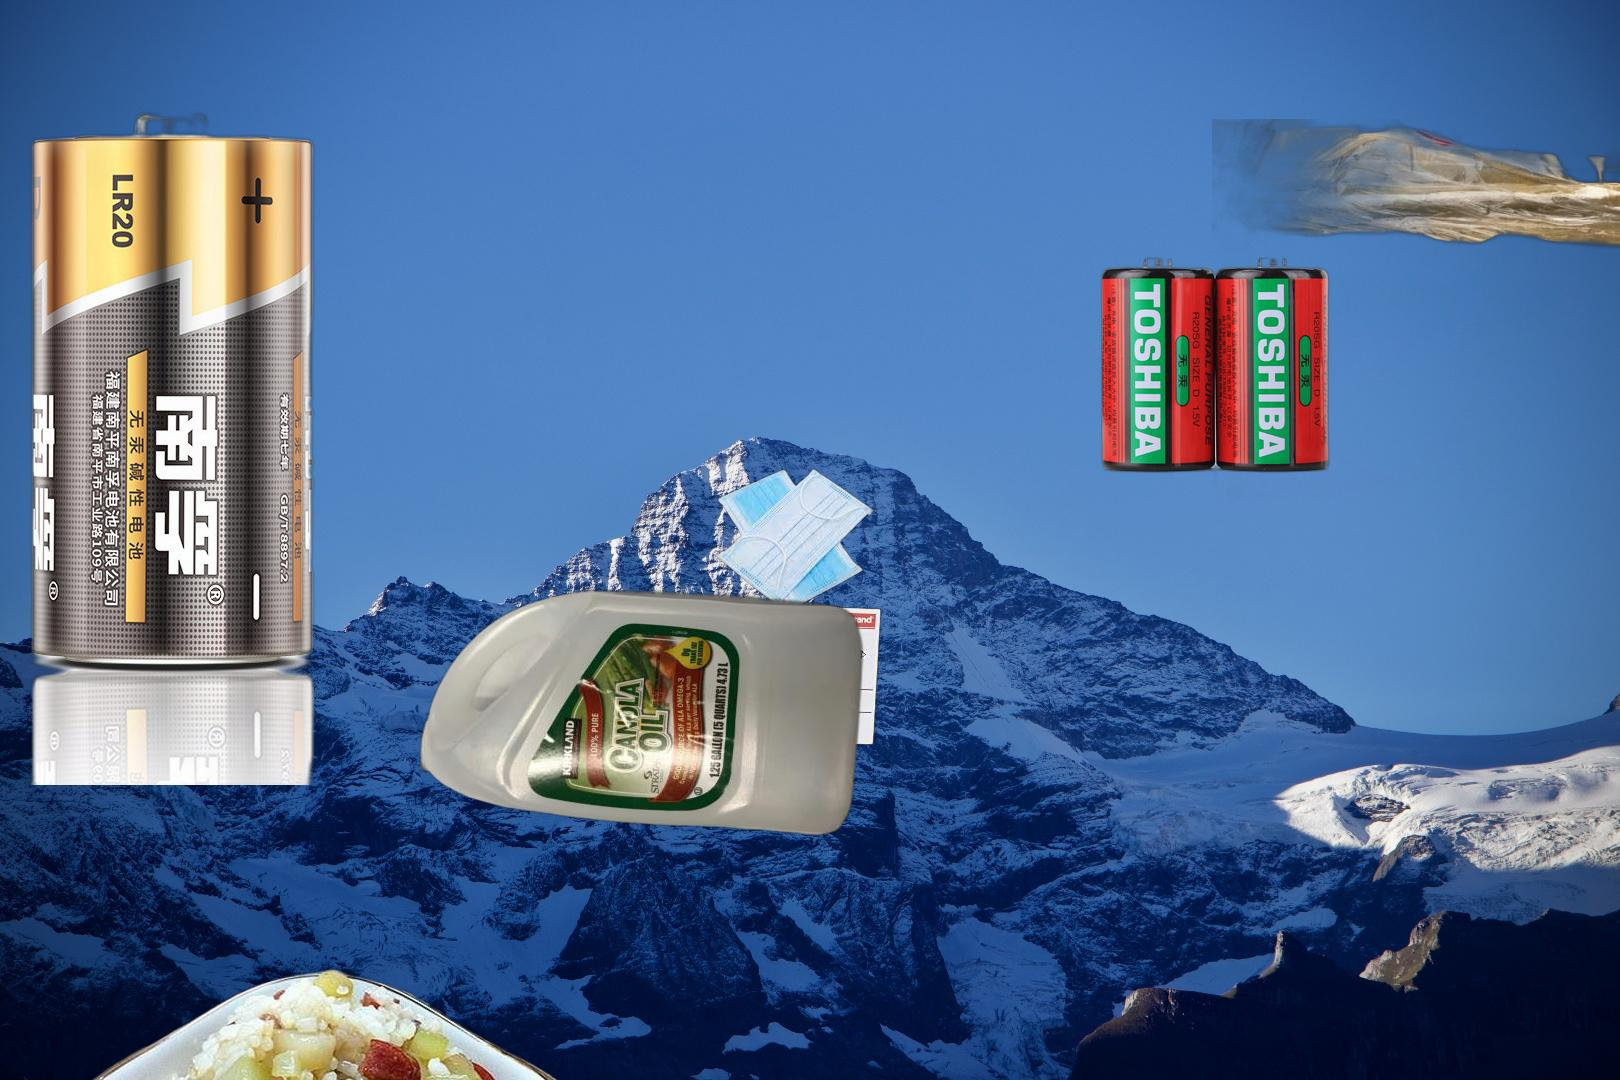battery: (22, 107, 322, 785), (1098, 256, 1332, 491)
biological: (60, 965, 589, 1080)
plastic-bottles: (415, 587, 867, 839)
trash: (714, 466, 876, 614)
trashbox-cardboard: (1213, 119, 1620, 503), (624, 598, 884, 747)
